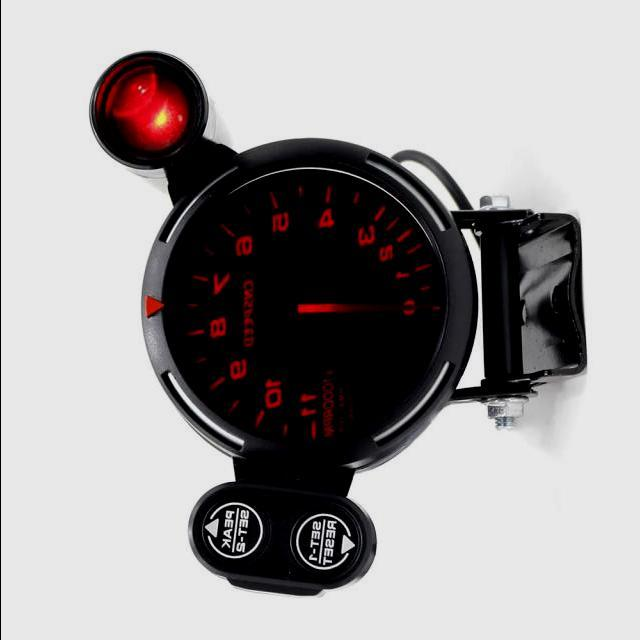Needle_Tip: (395, 284, 447, 335)
Needle_base: (284, 283, 335, 334)
max_value: (292, 381, 325, 437)
min_value: (392, 287, 431, 326)
